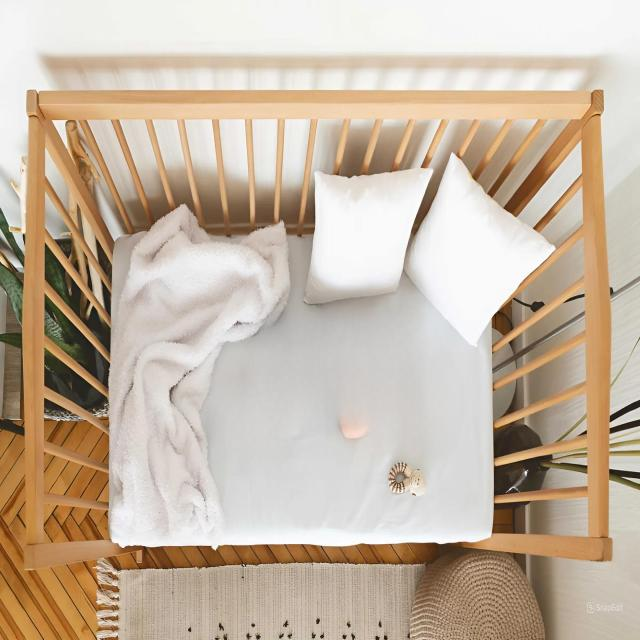crib: (16, 84, 614, 572)
